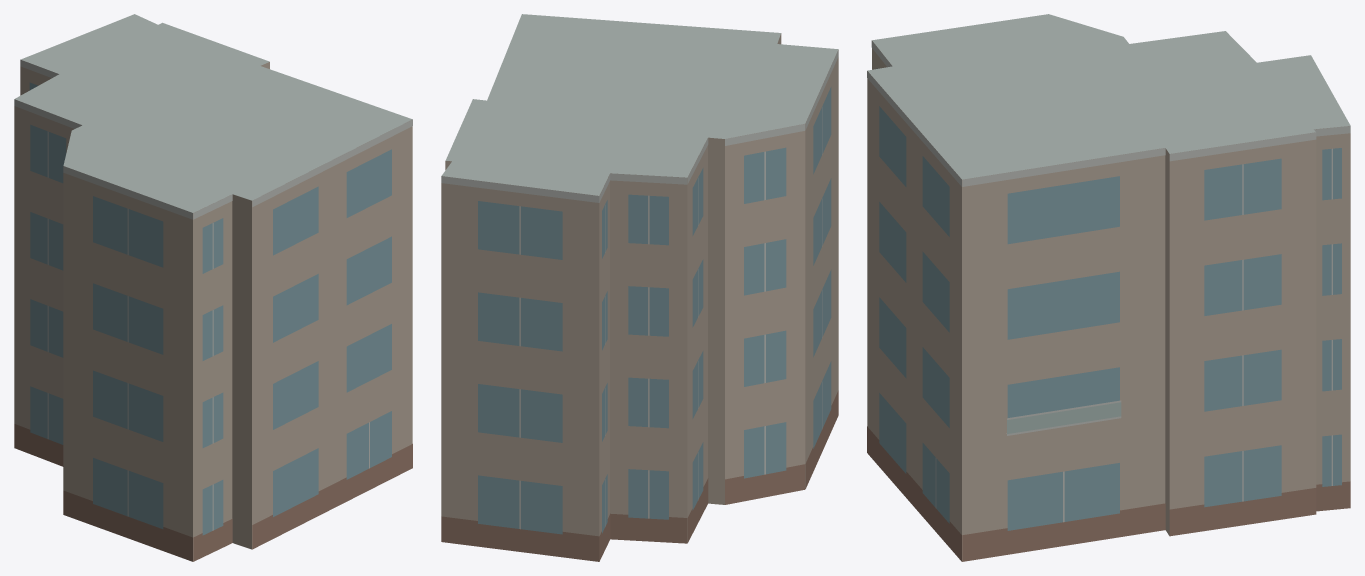
File: survey-upis-33037714.glb
3 renders of one model, left to right at view 1: azimuth 30°, elevation 25°; view 2: azimuth 150°, elevation 25°; view 3: azimuth 270°, elevation 25°, orthographic. The views are drawn at different scales.
Parts seen in each view (by area): view 1: survey-upis-33037714.tmp; view 2: survey-upis-33037714.tmp; view 3: survey-upis-33037714.tmp.
Part boxes in pixels (left/top/right/bottom): survey-upis-33037714.tmp: left=14, top=14, right=412, bottom=561; survey-upis-33037714.tmp: left=441, top=14, right=838, bottom=561; survey-upis-33037714.tmp: left=867, top=14, right=1350, bottom=561.
Bounding box in the file's own units: 11.72 × 12.6 × 14.46.
